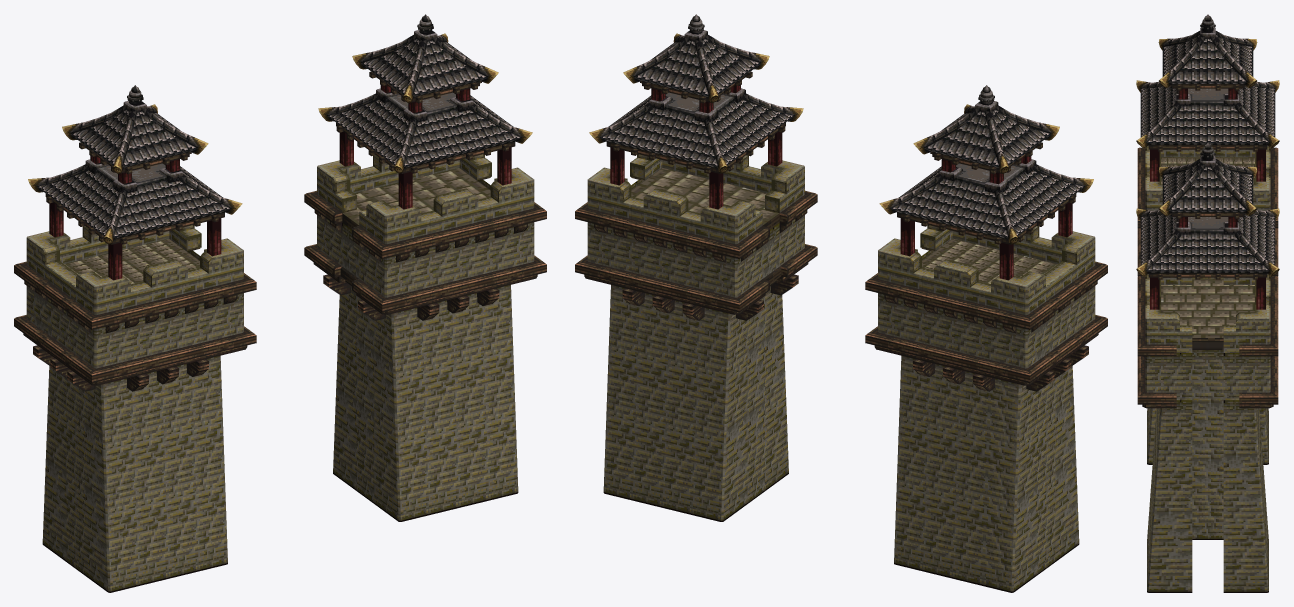
Rendered from EnvMdrMD_Desert_Gate_A_Watchtower_A.FBX.
3 views of the same model, side by side, from view 1: azimuth 30°, elevation 25°; view 2: azimuth 150°, elevation 25°; view 3: azimuth 270°, elevation 25° (orthographic). The views are drawn at different scales.
Visible parts, largest first — view 1: EnvMdrMD_Desert_Gate_A_Watchtower_A, EnvMdrMD_Desert_Gate_A_Watchtower_B; view 2: EnvMdrMD_Desert_Gate_A_Watchtower_A, EnvMdrMD_Desert_Gate_A_Watchtower_B; view 3: EnvMdrMD_Desert_Gate_A_Watchtower_B, EnvMdrMD_Desert_Gate_A_Watchtower_A.
Part boxes in pixels (x1=…): EnvMdrMD_Desert_Gate_A_Watchtower_A: x1=14, y1=85, x2=256, y2=592; EnvMdrMD_Desert_Gate_A_Watchtower_B: x1=304, y1=14, x2=546, y2=521; EnvMdrMD_Desert_Gate_A_Watchtower_A: x1=865, y1=85, x2=1107, y2=592; EnvMdrMD_Desert_Gate_A_Watchtower_B: x1=575, y1=14, x2=817, y2=521; EnvMdrMD_Desert_Gate_A_Watchtower_B: x1=1136, y1=142, x2=1279, y2=592; EnvMdrMD_Desert_Gate_A_Watchtower_A: x1=1136, y1=14, x2=1279, y2=464.
Size of the model in its own units: 1520 by 1498 by 459.
1 material, 1 textured.
